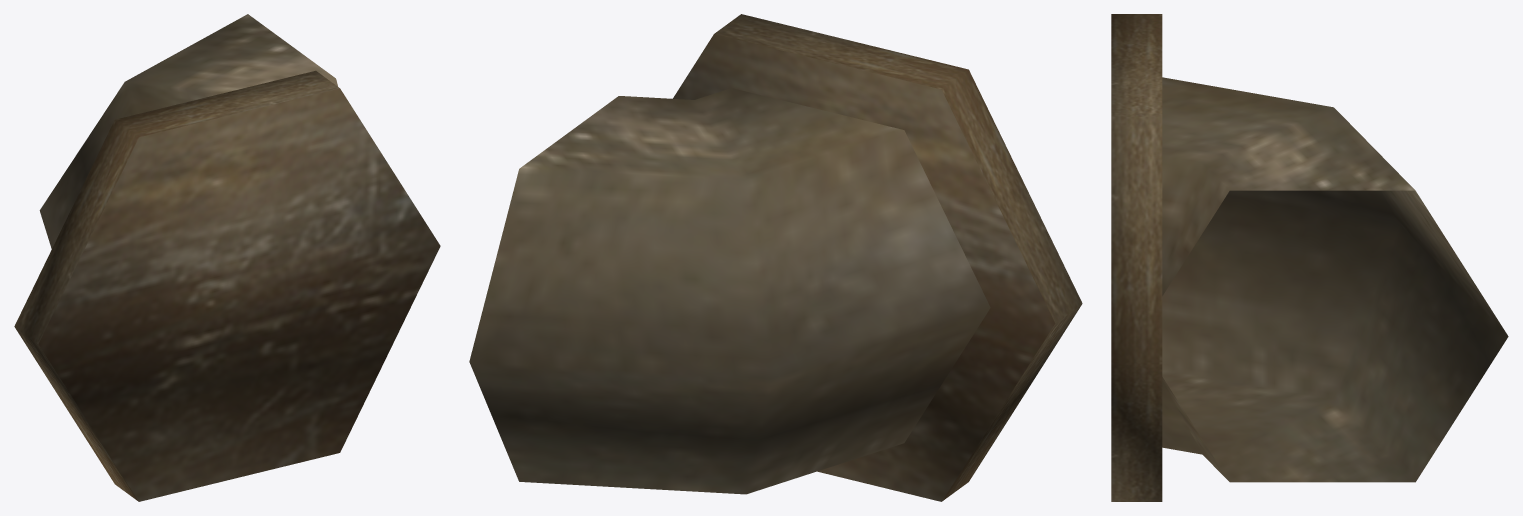
The model's file is small_brown_1_elbow_hz.fbx.
3 views of the same model, side by side, from view 1: azimuth 30°, elevation 25°; view 2: azimuth 150°, elevation 25°; view 3: azimuth 270°, elevation 25° (orthographic). The views are drawn at different scales.
Parts seen in each view (by area): view 1: polySurface659; view 2: polySurface659; view 3: polySurface659.
Part boxes in pixels (left/top/right/bottom): polySurface659: left=14, top=14, right=440, bottom=501; polySurface659: left=469, top=14, right=1082, bottom=501; polySurface659: left=1111, top=14, right=1508, bottom=501.
Bounding box in the file's own units: 0.3294 × 0.2853 × 0.2671.
